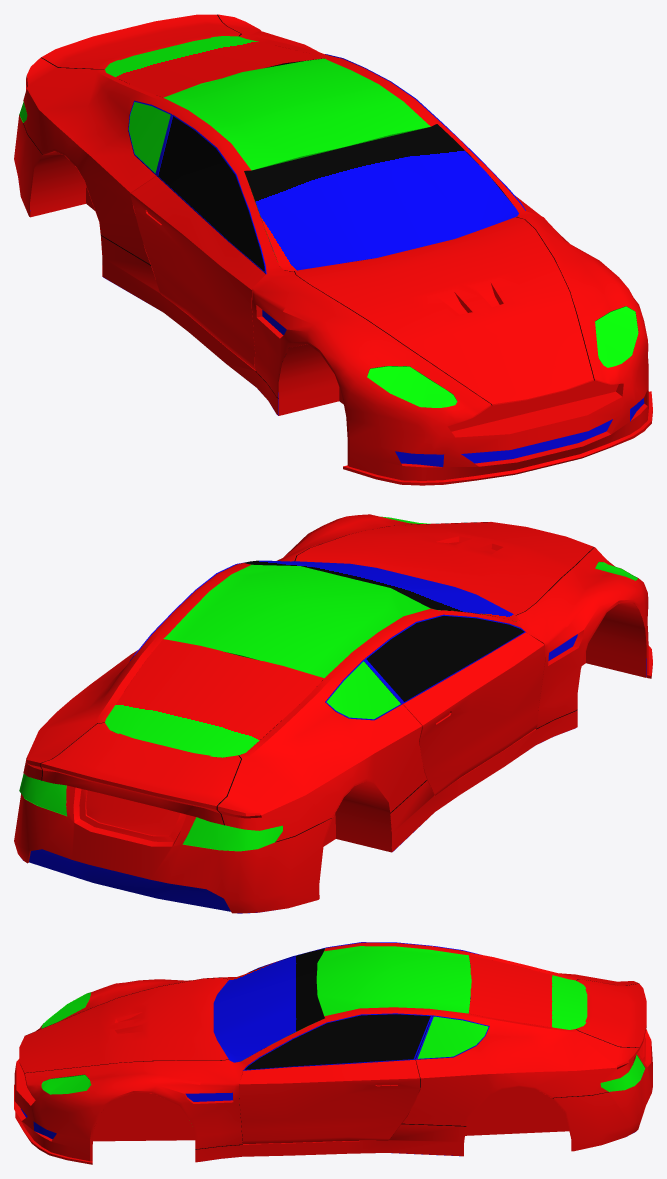
File: coupe-gt-lod1.glb
3 renders of one model, top to bottom at view 1: azimuth 30°, elevation 25°; view 2: azimuth 150°, elevation 25°; view 3: azimuth 270°, elevation 25°, orthographic. The views are drawn at different scales.
Visible parts, largest first — view 1: body; view 2: body; view 3: body.
Part boxes in pixels (x1,y1,x2,y2): body: (14, 14, 652, 485); body: (14, 514, 652, 913); body: (14, 942, 652, 1164).
Size of the model in its own units: 2.11 by 1.21 by 5.09.
3 materials, 3 textured.
